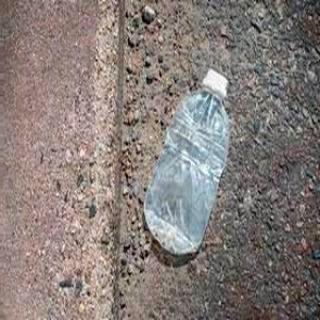Plastic: (142, 67, 234, 256)
